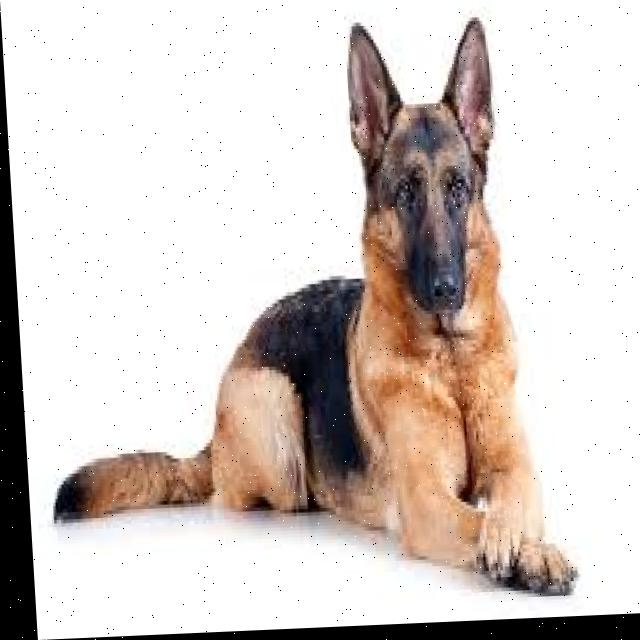GERMAN_SHEPHERD: (20, 4, 572, 620)
